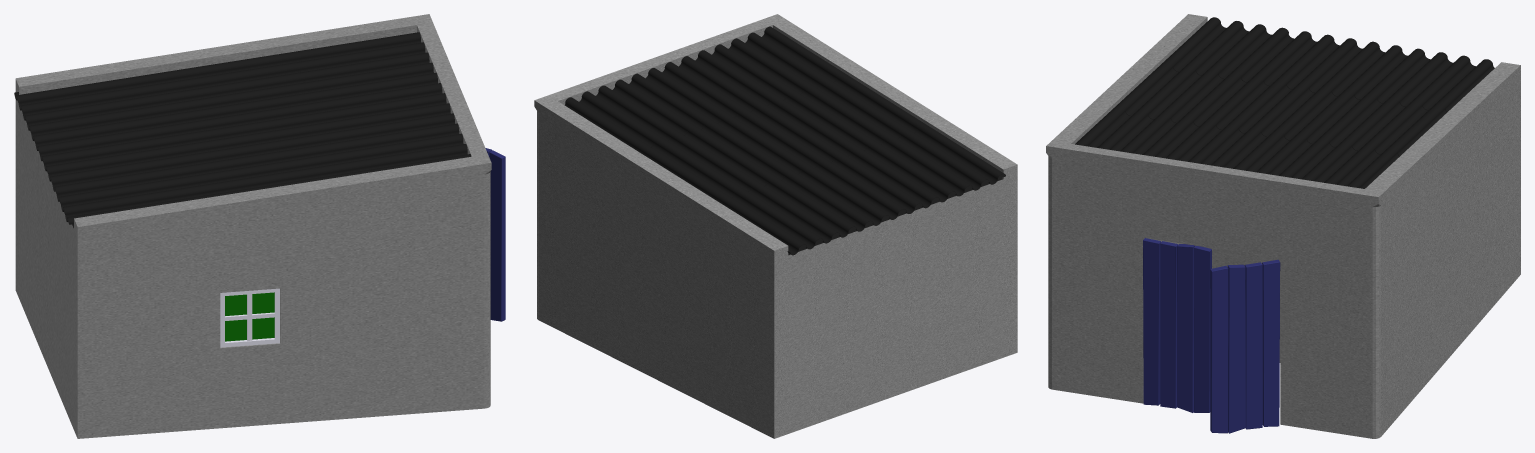
The model's file is Boat shed.fbx.
3 views of the same model, side by side, from view 1: azimuth 30°, elevation 25°; view 2: azimuth 150°, elevation 25°; view 3: azimuth 270°, elevation 25° (orthographic). The views are drawn at different scales.
Parts seen in each view (by area): view 1: Cube; view 2: Cube; view 3: Cube.
Part boxes in pixels (x1,y1,x2,y2): Cube: (14,14,505,438); Cube: (534,14,1017,438); Cube: (1046,14,1520,438).
Bounding box in the file's own units: 1696 × 888 × 1573.
